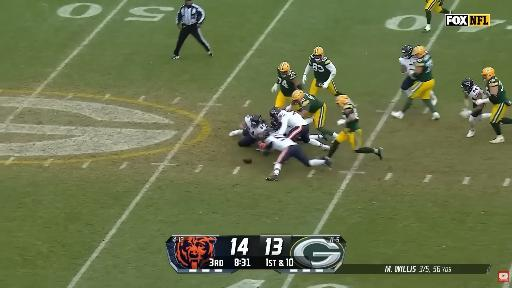Helmet: (336, 94, 349, 107), (279, 62, 291, 76), (462, 78, 473, 93), (412, 46, 425, 58), (313, 47, 324, 61), (402, 45, 413, 58), (293, 90, 304, 103), (482, 68, 495, 79), (251, 115, 262, 127), (270, 107, 281, 118)
Jersey: (278, 110, 307, 134), (486, 77, 510, 105), (308, 54, 331, 83), (265, 134, 297, 151), (244, 115, 267, 138), (415, 53, 433, 81), (278, 71, 297, 96), (343, 103, 359, 132), (299, 94, 323, 113), (464, 85, 487, 103), (399, 57, 416, 71)
Player: (259, 129, 331, 181), (326, 95, 382, 159), (392, 46, 440, 119), (476, 67, 511, 143), (270, 107, 329, 149), (292, 90, 337, 137), (303, 47, 340, 95), (461, 78, 490, 137), (272, 62, 303, 108), (229, 115, 267, 146), (424, 0, 451, 31), (399, 45, 415, 96)
